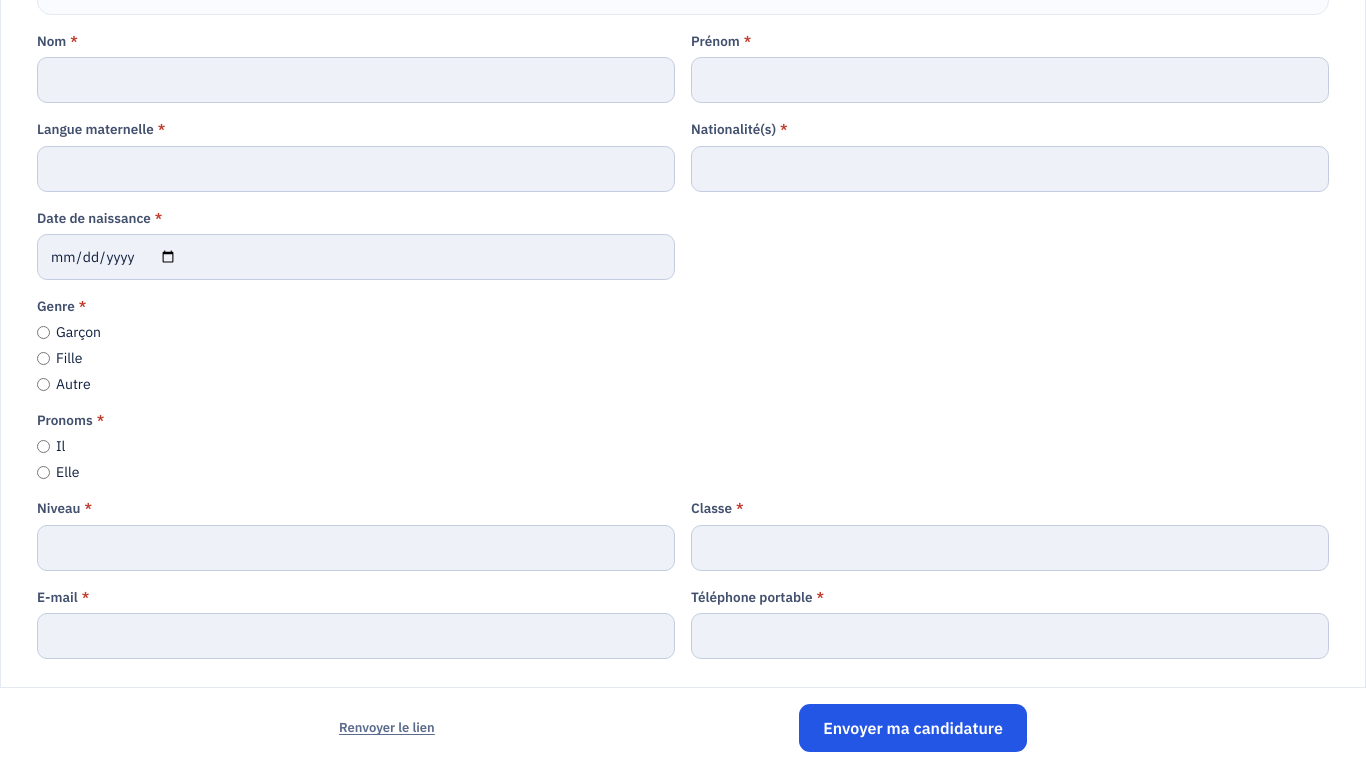
it: ApplicationForm › hides the gender specify field until "Autre" is selected
(page scrolled)
Check: the text "précisez" is not shown
What coordinates should you click on to do the following:
click the radio button labelled "Autre"
I would click on:
 (44, 384)
Its box is [37,378,50,391].
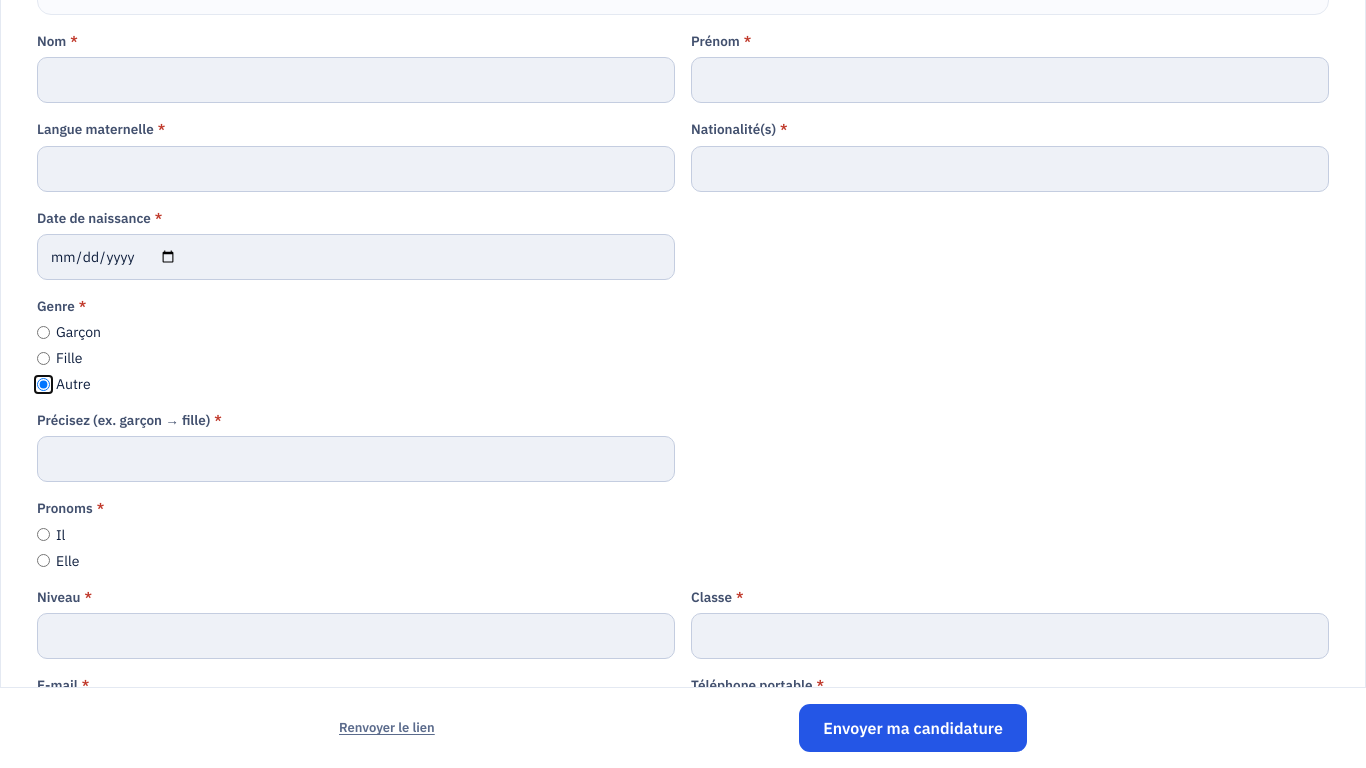
Check: the text "Précisez (ex. garçon → fille)*" is shown, box [37,411,222,429]
What coordinates should you click on to do the following:
click the radio button labelled "Fille"
I would click on:
 (44, 358)
Its box is [37,352,50,365].
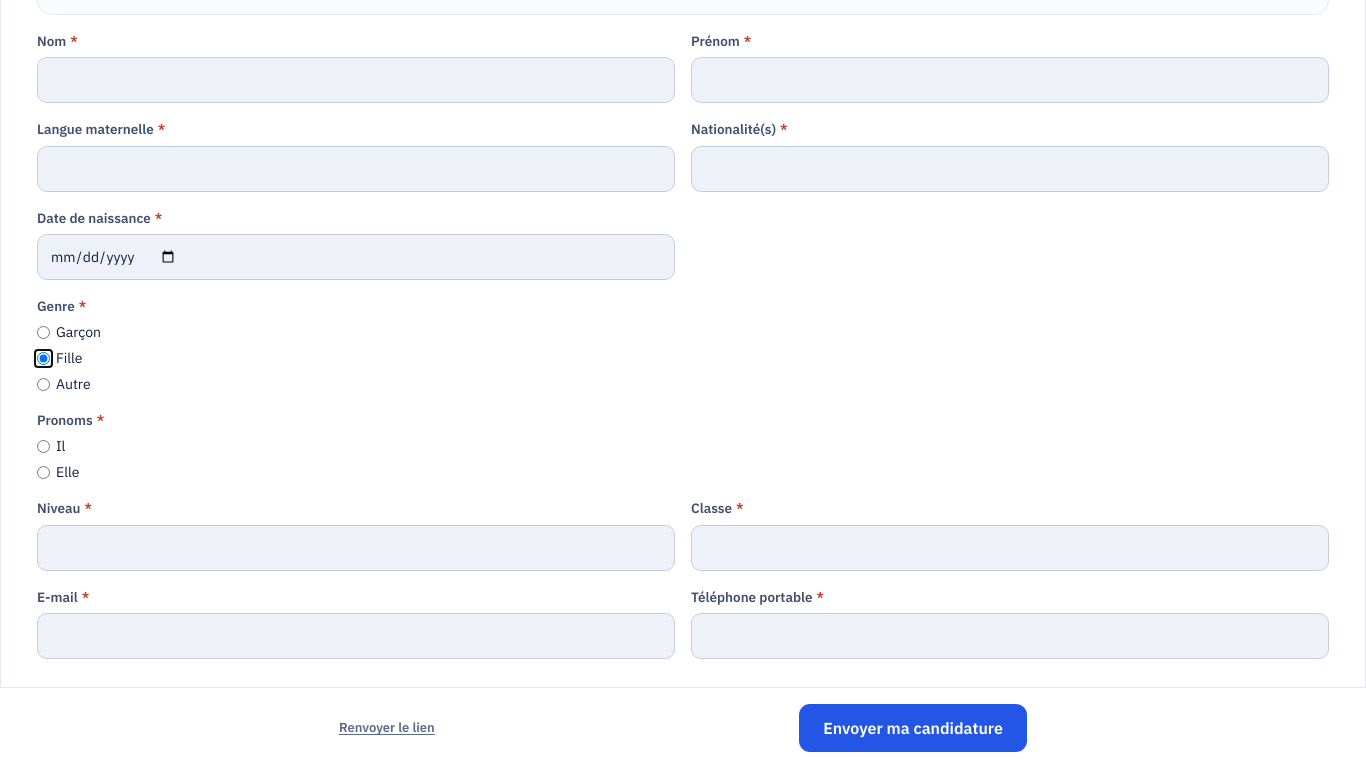
Check: the text "Précisez" is gone
